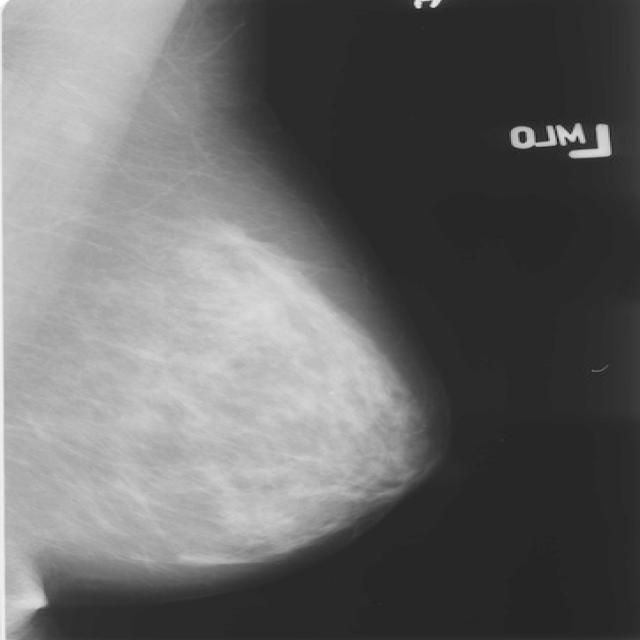tumour: (198, 219, 260, 249)
